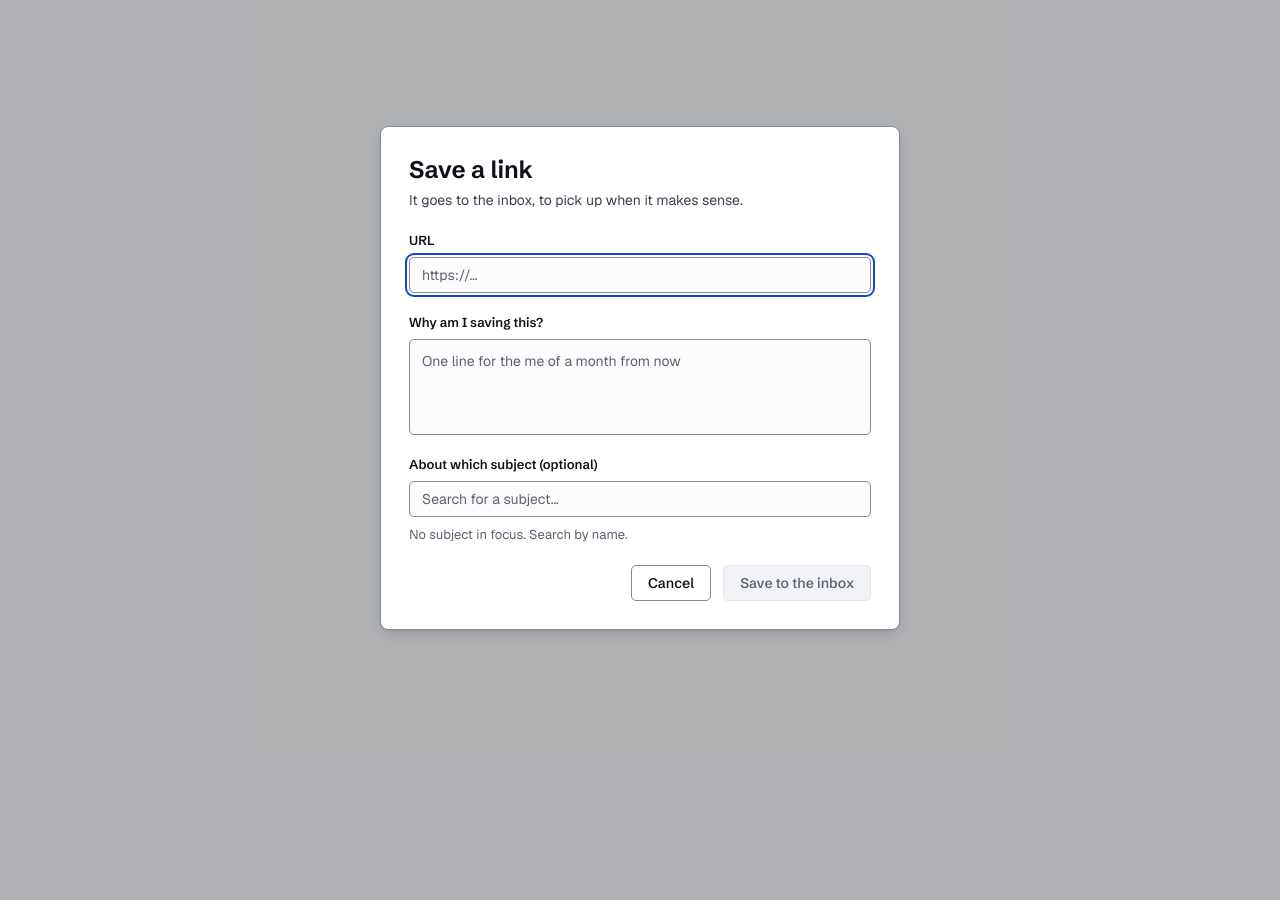
Test: SaveLinkDialog › submits a URL and shows the saved item
Type "https://example.org/reading-list" into the field with id "save-url".
click(640, 275); type("https://example.org/reading-list")  # box [409,257,871,293]
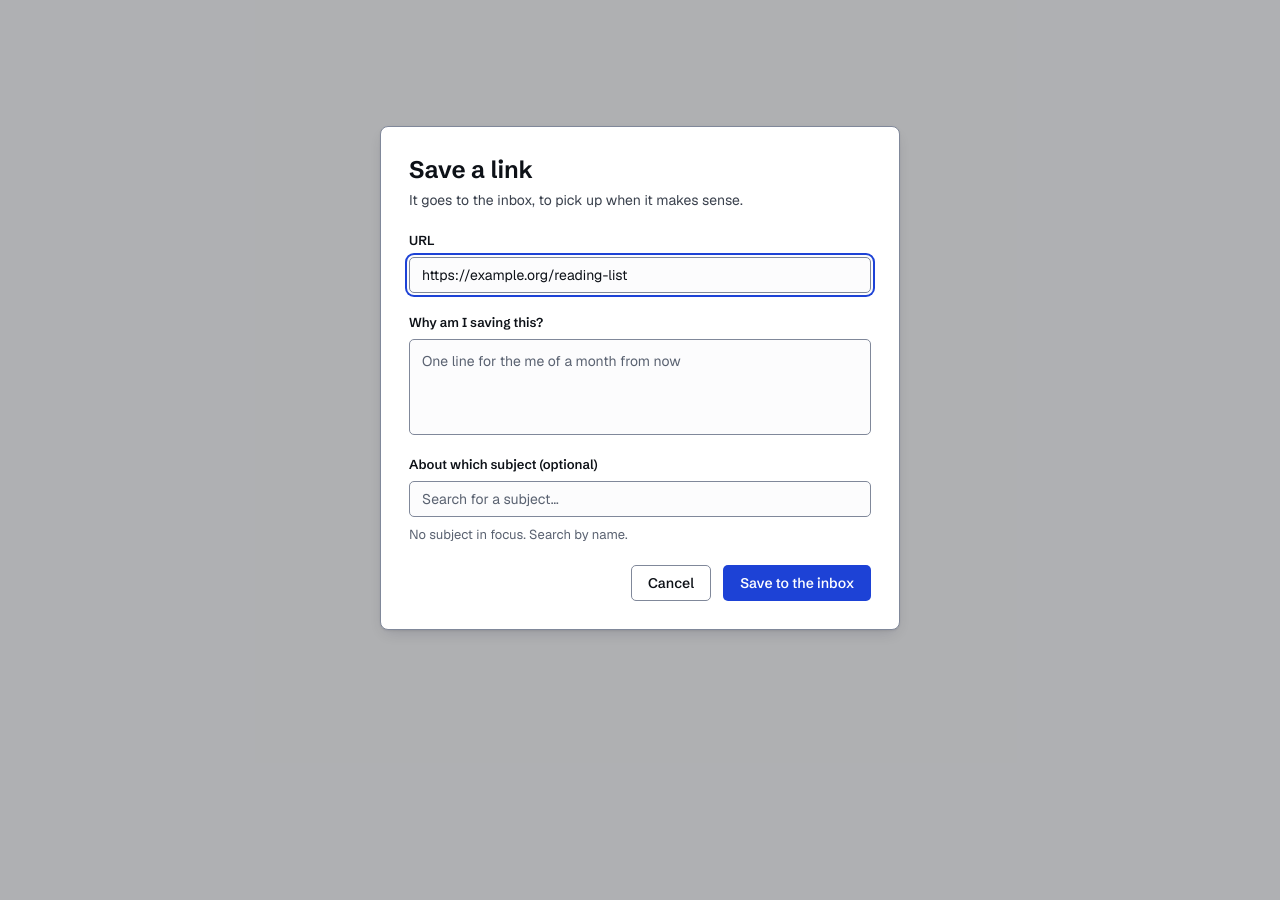
Submit the dialog, box [380,126,900,630]
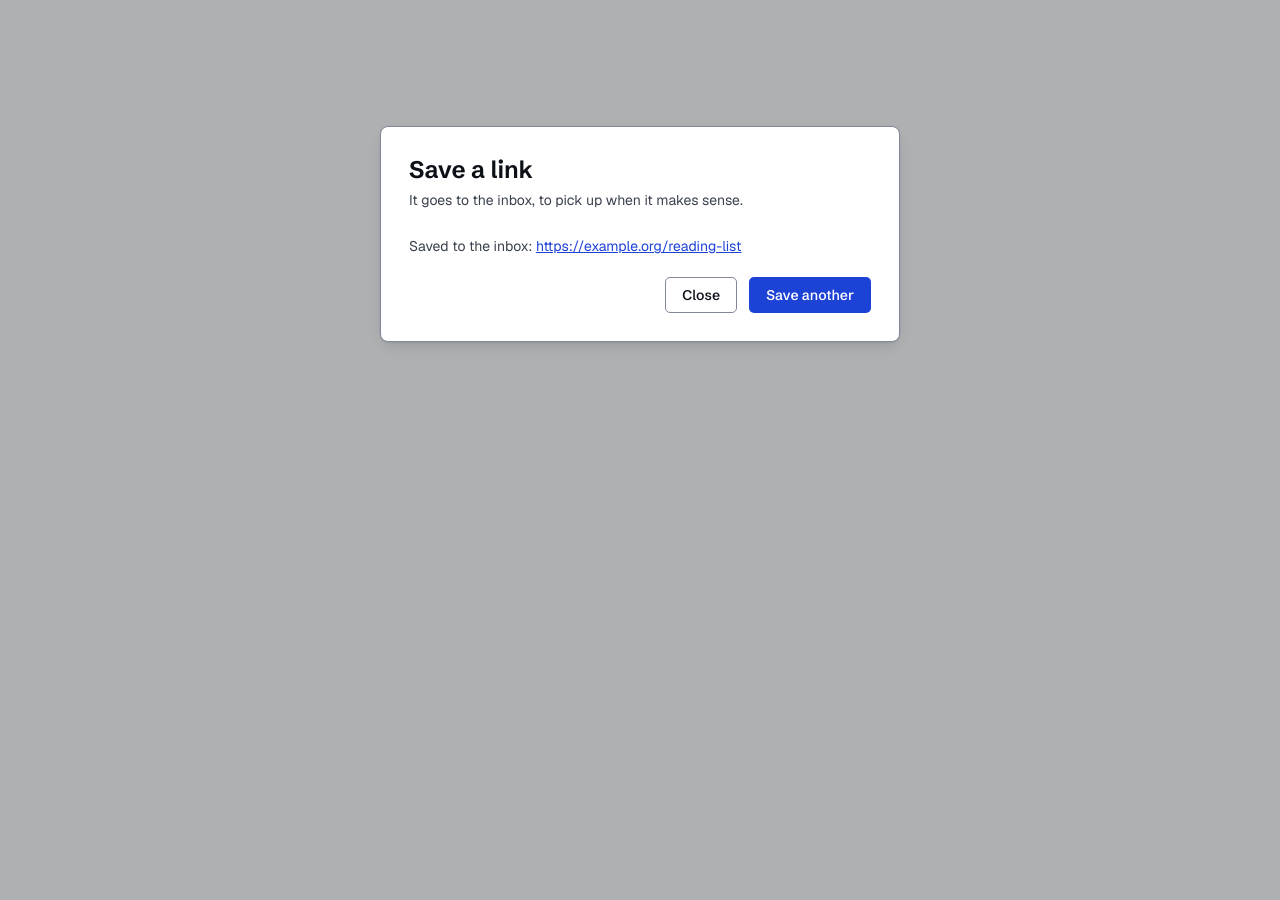
Check: the message with class "save-done" shows "Saved to the inbox", box [409,237,536,255]
Check: the message with class "save-done" shows "https://example.org/reading-list", box [536,237,741,255]
